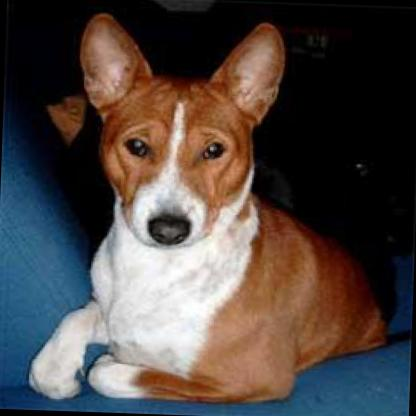basenji: (22, 7, 396, 410)
